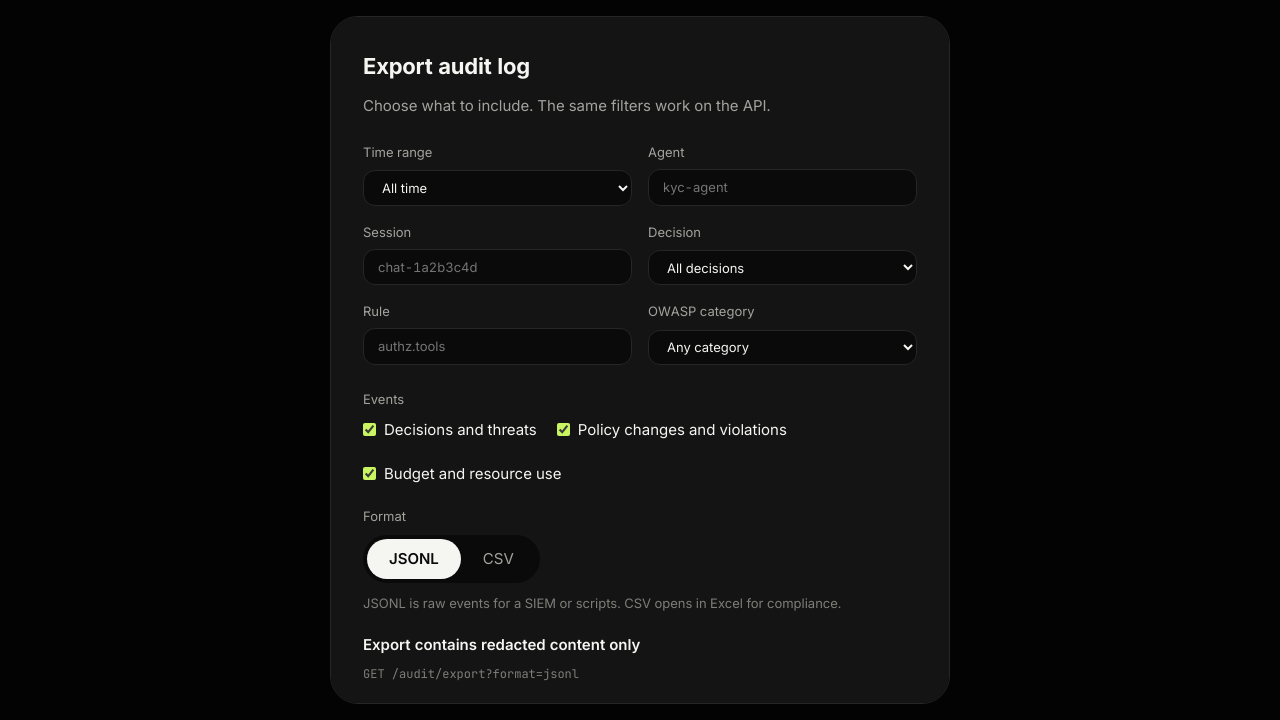
Test: ExportDialog › exports only the chosen kinds of events and blocks an empty choice
Click the checkbox labelled "Budget and resource use" at (370, 474), box [363, 467, 376, 480]
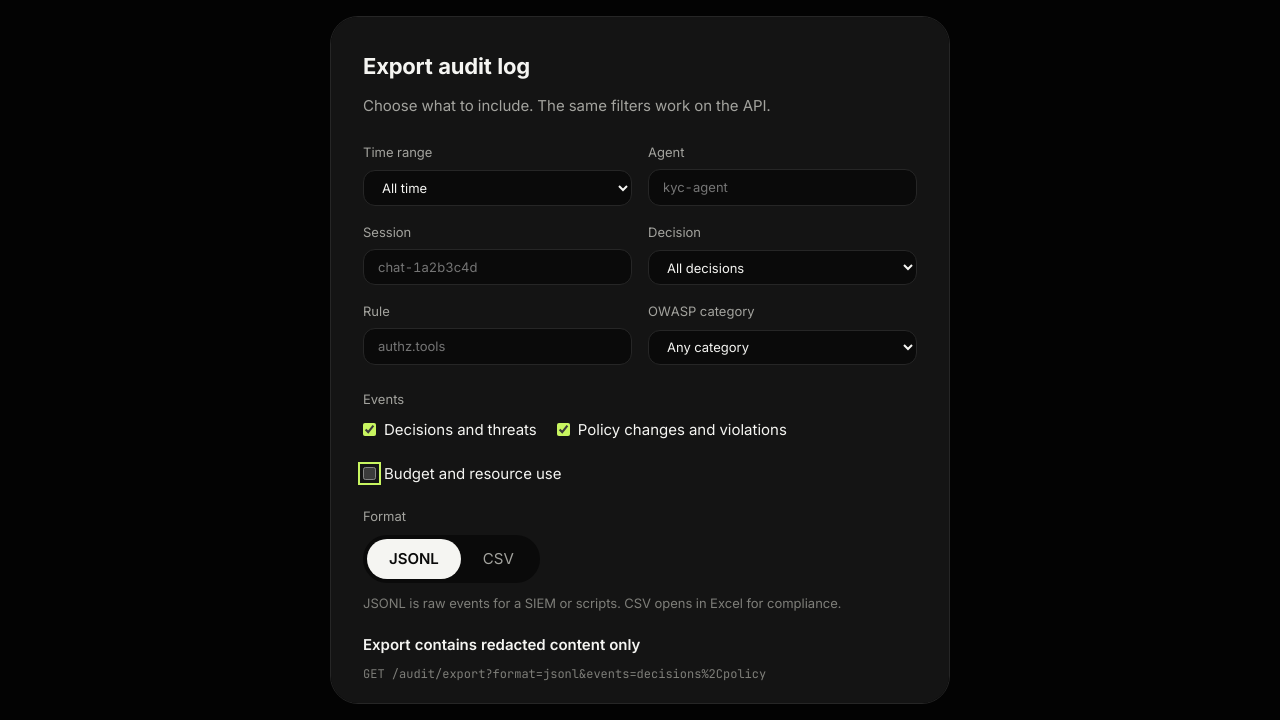
Click the checkbox labelled "Decisions and threats" at (370, 430), box [363, 423, 376, 436]
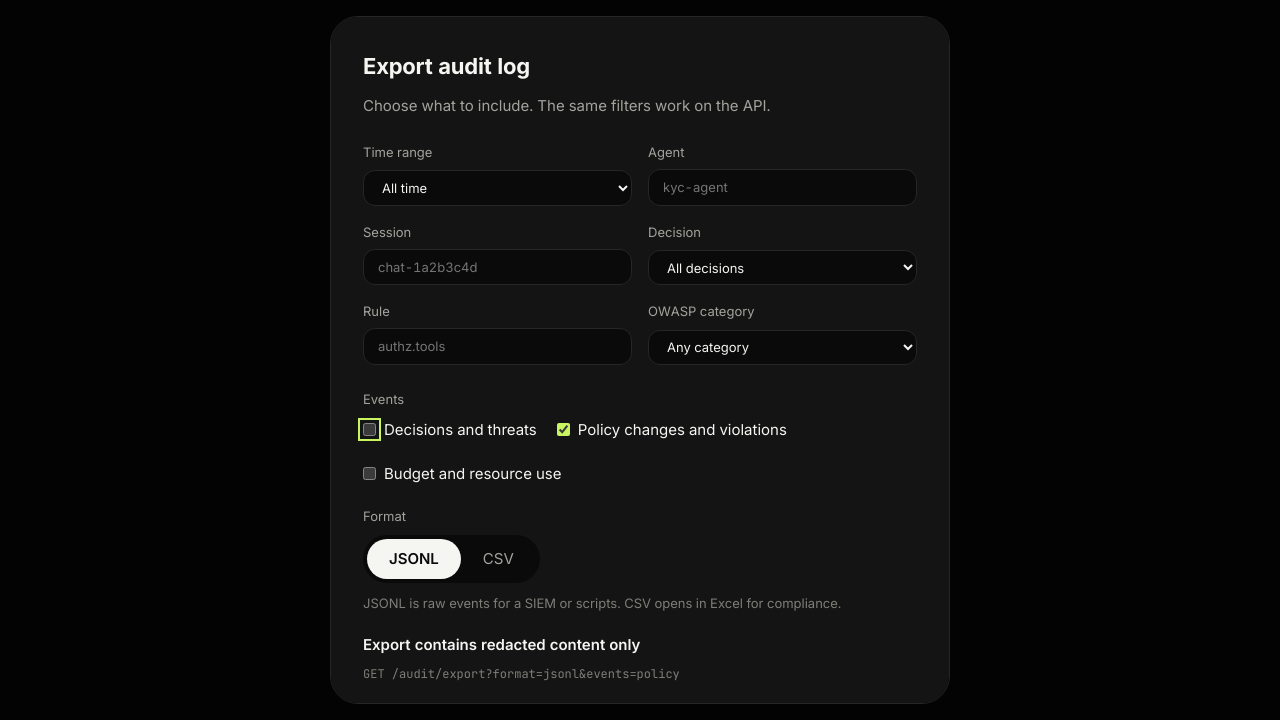
Click the checkbox labelled "Policy changes and violations" at (563, 430), box [557, 423, 570, 436]
(page scrolled)
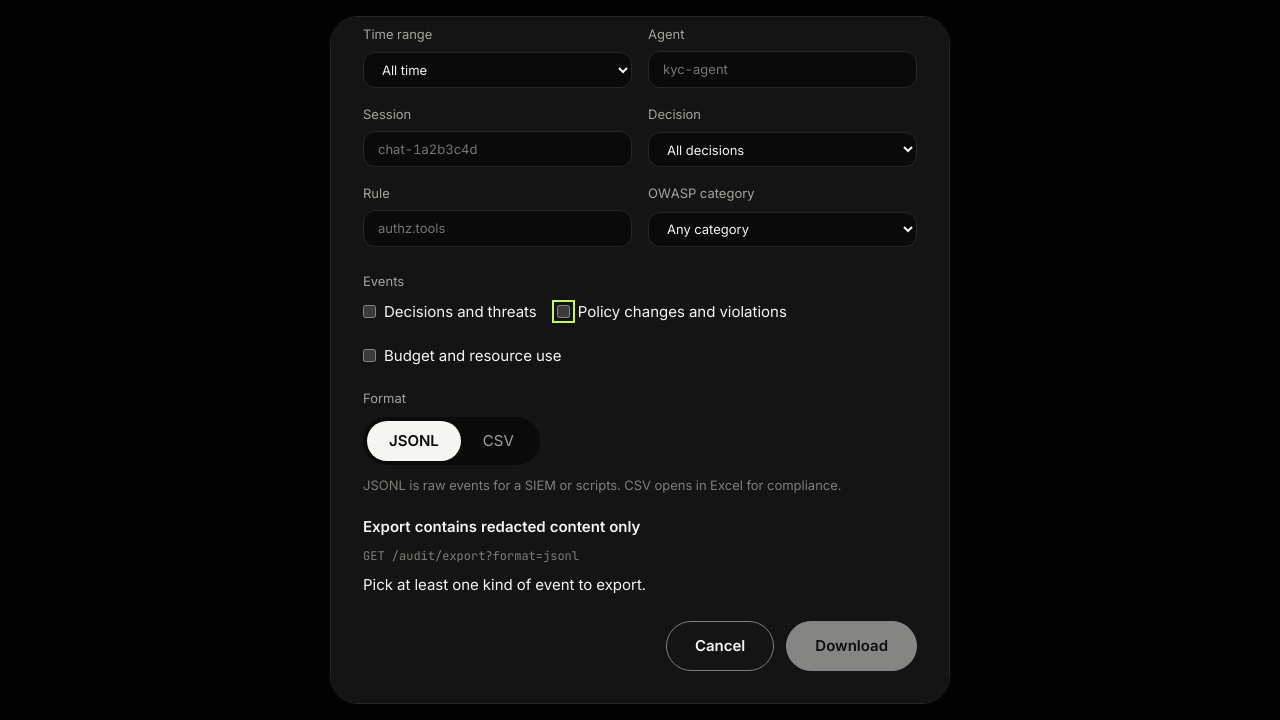
Now the message shows "Pick at least one kind of event", box [363, 574, 646, 594]
